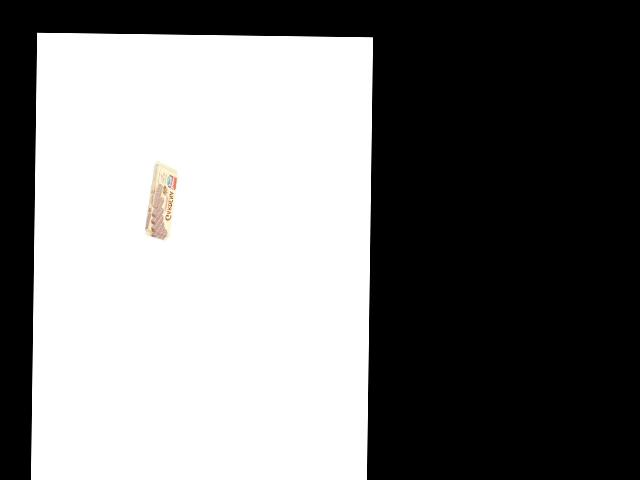chocolate: (147, 158, 179, 244)
